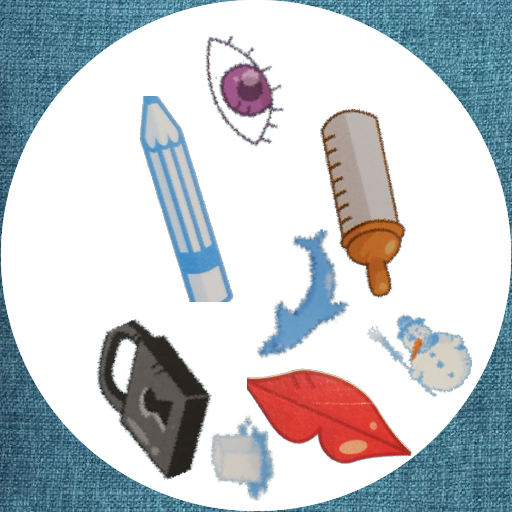bottle_icon: (265, 104, 461, 300)
cube_icon: (193, 414, 284, 505)
dolphin_icon: (231, 227, 374, 370)
eye_icon: (180, 29, 301, 150)
lips_icon: (247, 324, 414, 491)
lock_icon: (71, 319, 232, 480)
pen_icon: (79, 96, 285, 302)
snowman_icon: (364, 300, 472, 408)
